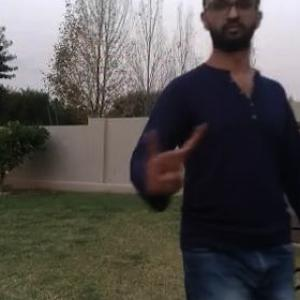takeoff-hand: (138, 121, 209, 198)
